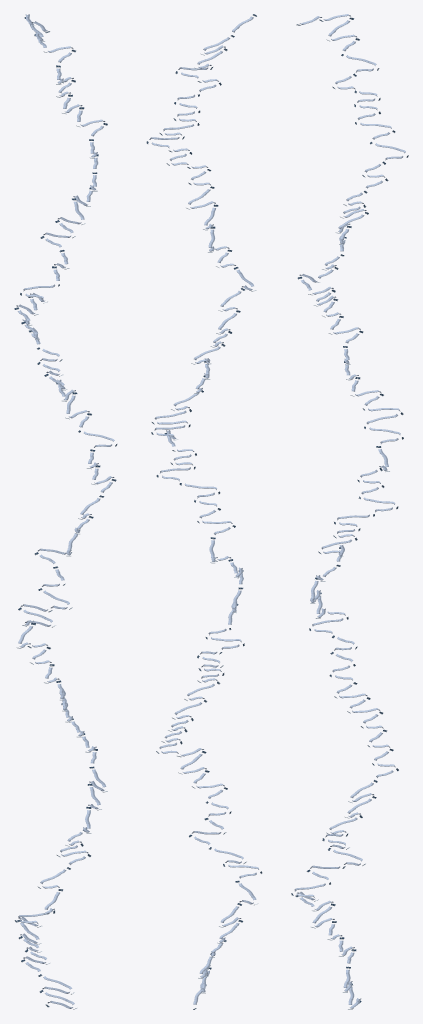
The model's file is C-route-v027-06.glb.
The picture shows the model from 3 angles, left to right: view 1: azimuth 30°, elevation 25°; view 2: azimuth 150°, elevation 25°; view 3: azimuth 330°, elevation 25°; orthographic projection. The views are drawn at different scales.
Size of the model in its own units: 0.5709 by 5.3 by 0.4545.
Materials: 5 (1 with a texture image).
